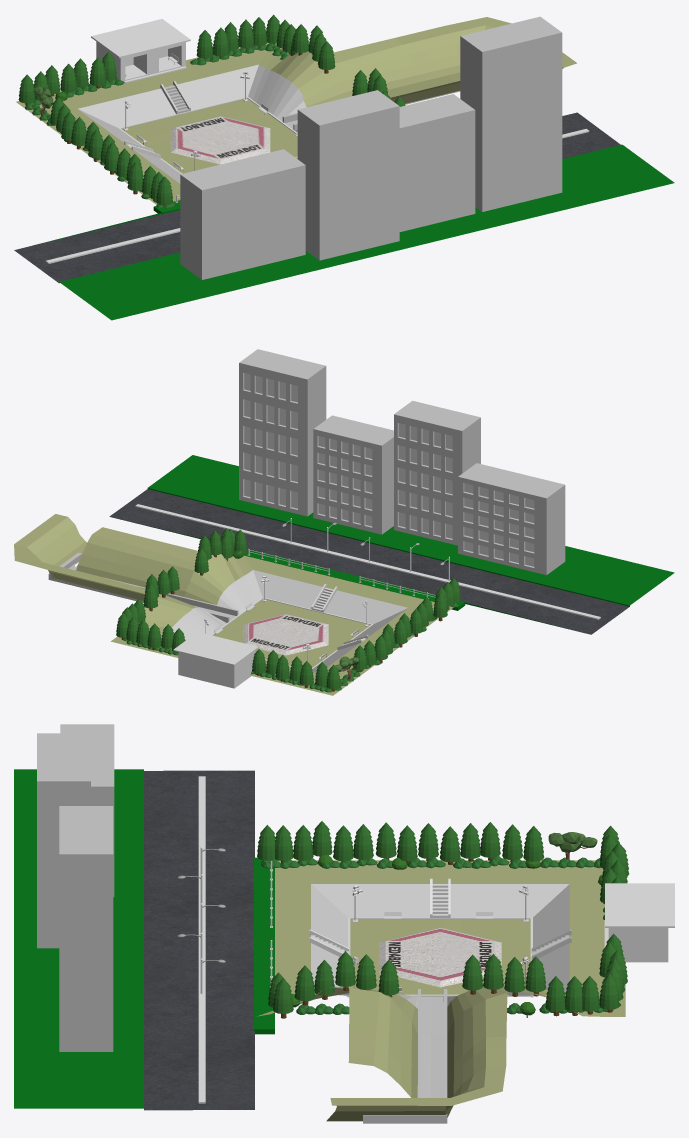
File: Arena_final_v1.fbx
3 views of the same model, one above another, from view 1: azimuth 30°, elevation 25°; view 2: azimuth 150°, elevation 25°; view 3: azimuth 270°, elevation 25° (orthographic). The views are drawn at different scales.
Parts seen in each view (by area): view 1: Cube, Cube.132, Cube.130, Cube.131, Cube.129, Cylinder, Cube.126, Cube.016, Cube.103, Cube.133; view 2: Cube, Cube.132, Cube.131, Cube.130, Cube.129, Cylinder, Cube.103, Cube.016, Cube.126, Cube.001, Cube.127, Cube.128; view 3: Cube, Cube.132, Cube.130, Cylinder, Cube.001, Cube.126, Cube.103, Cube.131, Cube.016, Cube.127, Tree2.1, Cube.005 (+12 smaller).
Part boxes in pixels (left/top/right/bottom): Cube: left=14, top=17, right=674, bottom=320; Cube.132: left=460, top=16, right=562, bottom=211; Cube.130: left=297, top=90, right=399, bottom=260; Cube.131: left=180, top=149, right=305, bottom=279; Cube.129: left=399, top=94, right=475, bottom=231; Cylinder: left=170, top=116, right=270, bottom=164; Cube.126: left=91, top=19, right=190, bottom=58; Cube.016: left=96, top=42, right=185, bottom=81; Cube.103: left=45, top=128, right=589, bottom=263; Cube.133: left=160, top=80, right=190, bottom=114; Cube: left=14, top=455, right=674, bottom=695; Cube.132: left=239, top=349, right=326, bottom=516; Cube.131: left=458, top=463, right=565, bottom=575; Cube.130: left=394, top=400, right=480, bottom=545; Cube.129: left=313, top=415, right=393, bottom=534; Cylinder: left=243, top=614, right=328, bottom=655; Cube.103: left=135, top=504, right=600, bottom=619; Cube.016: left=178, top=651, right=255, bottom=688; Cube.126: left=173, top=632, right=258, bottom=665; Cube.001: left=243, top=549, right=465, bottom=610; Cube.127: left=48, top=552, right=229, bottom=622; Cube.128: left=72, top=566, right=238, bottom=615; Cube: left=14, top=769, right=625, bottom=1121; Cube.132: left=59, top=806, right=113, bottom=1051; Cube.130: left=37, top=733, right=90, bottom=948; Cylinder: left=379, top=927, right=501, bottom=987; Cube.001: left=254, top=857, right=274, bottom=1034; Cube.126: left=605, top=883, right=674, bottom=927; Cube.103: left=198, top=776, right=205, bottom=1103; Cube.131: left=60, top=724, right=114, bottom=897; Cube.016: left=608, top=928, right=668, bottom=962; Cube.127: left=363, top=989, right=447, bottom=1123; Tree2.1: left=548, top=832, right=597, bottom=860; Cube.005: left=430, top=878, right=450, bottom=917.
Size of the model in its own units: 30667 by 8662 by 23897.
